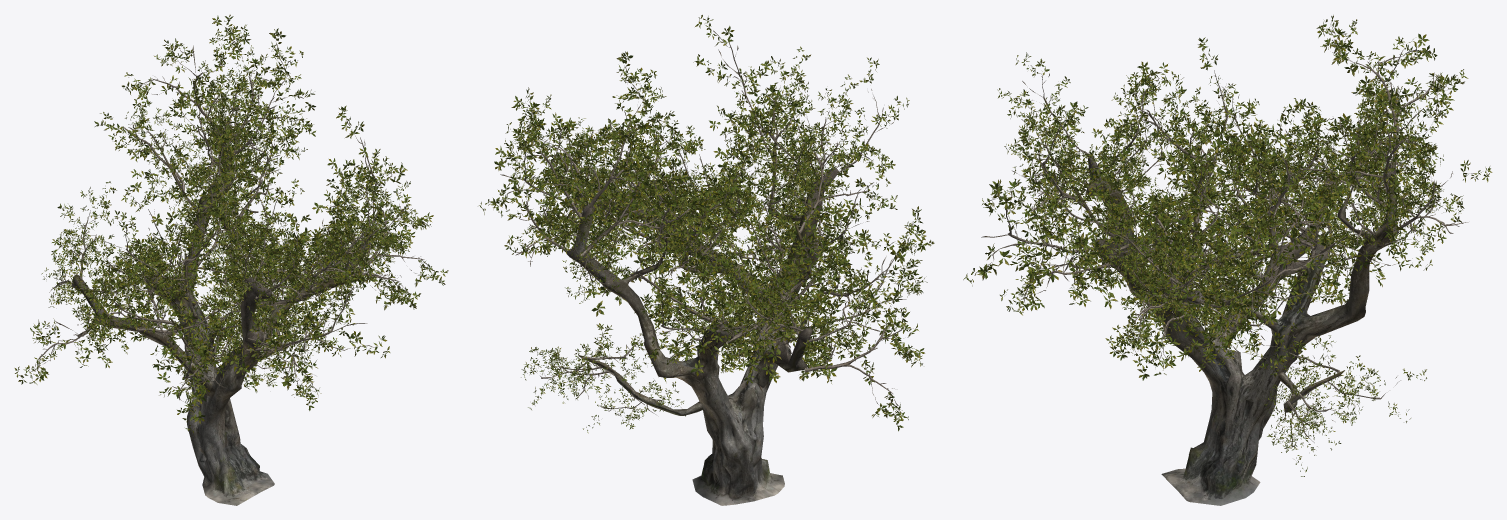
File: village-pbr-island_tree_01.glb
The picture shows the model from 3 angles, left to right: view 1: azimuth 30°, elevation 25°; view 2: azimuth 150°, elevation 25°; view 3: azimuth 270°, elevation 25°; orthographic projection. The views are drawn at different scales.
Visible parts, largest first — view 1: island_tree_01_LOD0; view 2: island_tree_01_LOD0; view 3: island_tree_01_LOD0.
Boxes of the visible parts, <box> form: island_tree_01_LOD0: <box>14,14,448,505</box>; island_tree_01_LOD0: <box>479,15,934,505</box>; island_tree_01_LOD0: <box>963,15,1492,505</box>.
Size of the model in its own units: 4.75 by 5.02 by 4.82.
Materials: 3 (3 with a texture image).
